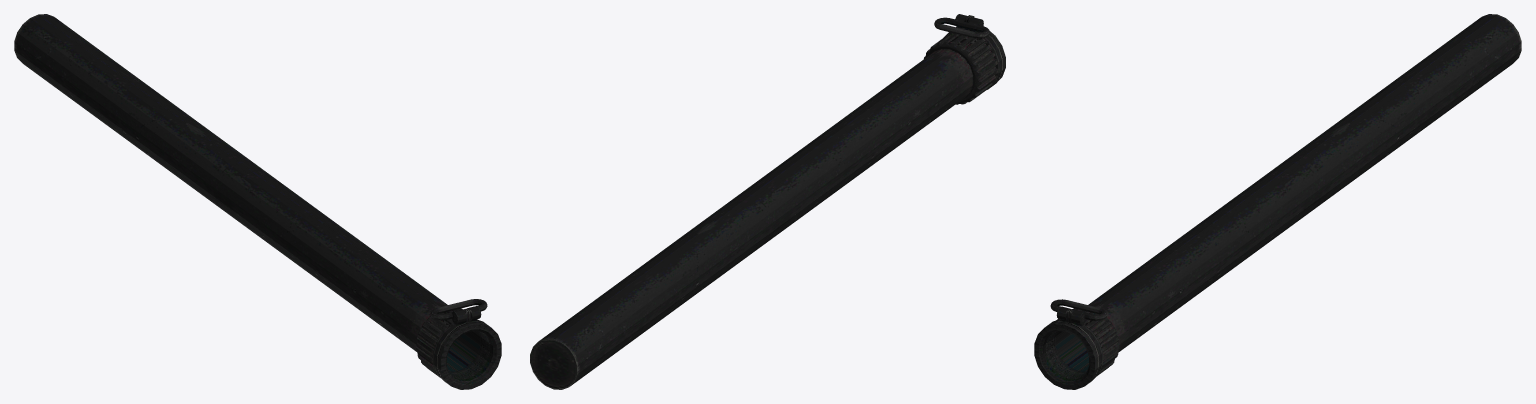
3 views of the same model, side by side, from view 1: azimuth 30°, elevation 25°; view 2: azimuth 150°, elevation 25°; view 3: azimuth 330°, elevation 25° (orthographic). The views are drawn at different scales.
Parts seen in each view (by area): view 1: TW_56deeefcd2720bc8328b4568_PZ_Import; view 2: TW_56deeefcd2720bc8328b4568_PZ_Import; view 3: TW_56deeefcd2720bc8328b4568_PZ_Import.
Boxes of the visible parts, x1,y1,x2,y2 form: TW_56deeefcd2720bc8328b4568_PZ_Import: (14, 14, 501, 389); TW_56deeefcd2720bc8328b4568_PZ_Import: (530, 14, 1005, 389); TW_56deeefcd2720bc8328b4568_PZ_Import: (1034, 14, 1521, 389).
Bounding box in the file's own units: 0.0168 × 0.2062 × 0.0198.
1 material, 1 textured.
